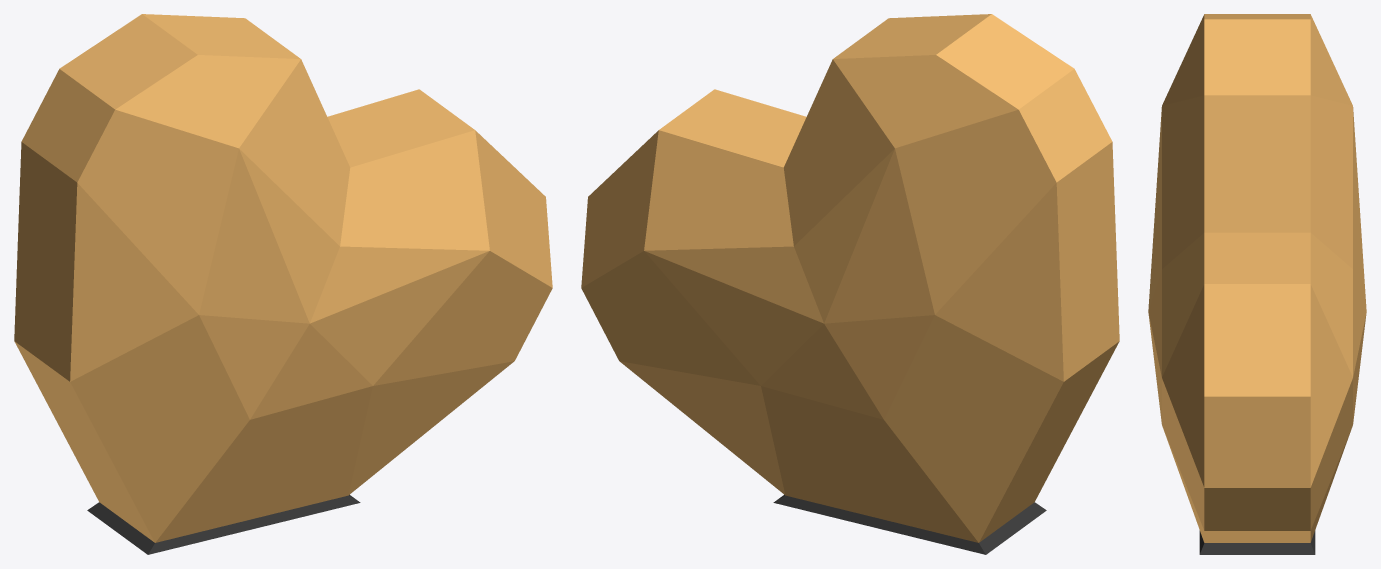
File: Heart.fbx
The picture shows the model from 3 angles, left to right: view 1: azimuth 30°, elevation 25°; view 2: azimuth 150°, elevation 25°; view 3: azimuth 270°, elevation 25°; orthographic projection. The views are drawn at different scales.
Visible parts, largest first — view 1: Heart; view 2: Heart; view 3: Heart.
Part boxes in pixels (x1,y1,x2,y2): Heart: (14,14,552,554); Heart: (581,14,1119,554); Heart: (1148,14,1366,554).
Size of the model in its own units: 0.1177 by 0.1131 by 0.0485.
